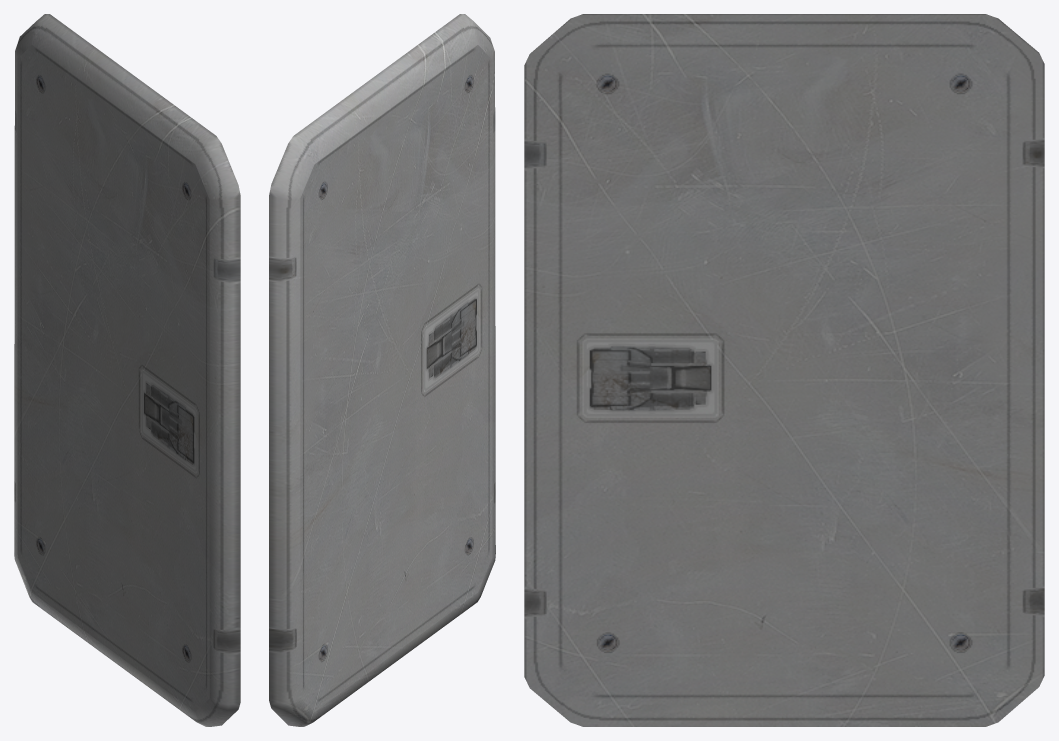
File: SM_Wall_Small6.fbx
The picture shows the model from 3 angles, left to right: view 1: azimuth 30°, elevation 25°; view 2: azimuth 150°, elevation 25°; view 3: azimuth 270°, elevation 25°; orthographic projection. The views are drawn at different scales.
Parts seen in each view (by area): view 1: SM_Wall_Small6_LOD0; view 2: SM_Wall_Small6_LOD0; view 3: SM_Wall_Small6_LOD0.
Part boxes in pixels (x1,y1,x2,y2): SM_Wall_Small6_LOD0: [14, 14, 240, 726]; SM_Wall_Small6_LOD0: [269, 14, 495, 726]; SM_Wall_Small6_LOD0: [524, 14, 1044, 726].
Bounding box in the file's own units: 7.45 × 142 × 215.
Materials: 1 (1 with a texture image).
